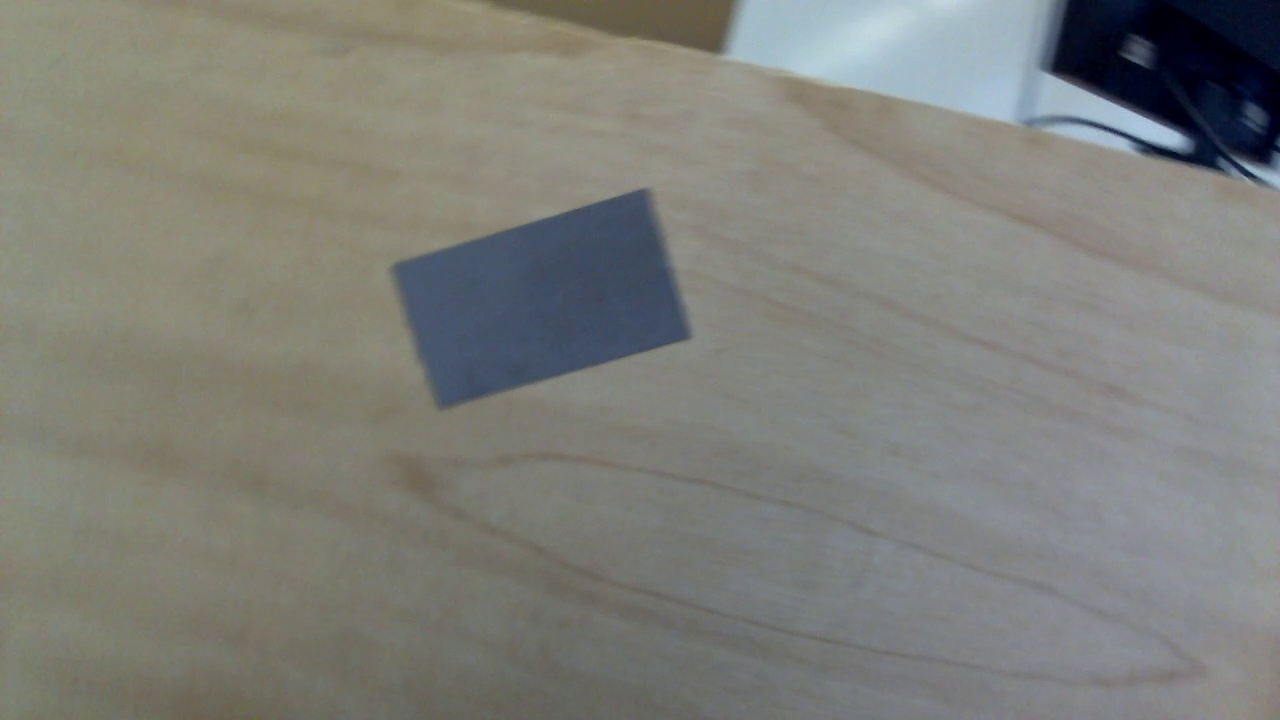Tape: (384, 187, 694, 415)
